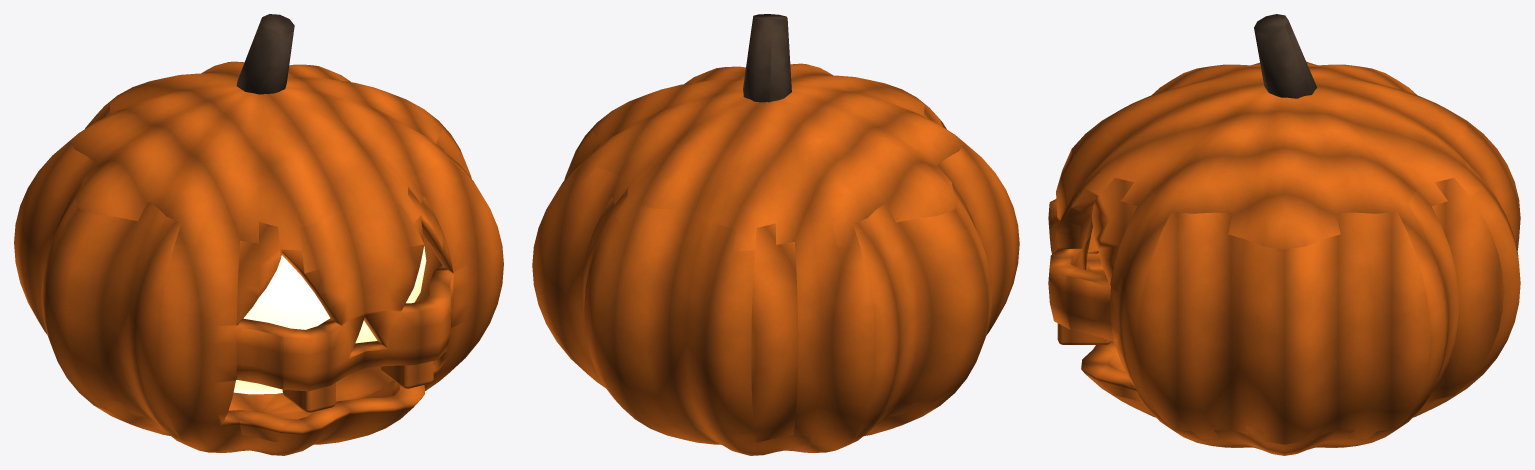
File: Pumpkin.glb
3 views of the same model, side by side, from view 1: azimuth 30°, elevation 25°; view 2: azimuth 150°, elevation 25°; view 3: azimuth 270°, elevation 25° (orthographic).
Visible parts, largest first — view 1: Pumpkin_Pumpkin, Pumpkin_PlasticWhite_glow.004, Pumpkin_Bark; view 2: Pumpkin_Pumpkin, Pumpkin_Bark; view 3: Pumpkin_Pumpkin, Pumpkin_Bark.
Boxes of the visible parts, <box> form: Pumpkin_Pumpkin: <box>14,61,503,455</box>; Pumpkin_PlasticWhite_glow.004: <box>233,246,426,394</box>; Pumpkin_Bark: <box>236,14,294,94</box>; Pumpkin_Pumpkin: <box>532,63,1019,455</box>; Pumpkin_Bark: <box>743,14,791,102</box>; Pumpkin_Pumpkin: <box>1048,61,1520,455</box>; Pumpkin_Bark: <box>1254,14,1316,98</box>.
Bounding box in the file's own units: 2.78 × 2.58 × 2.65.
Materials: 3 (3 with a texture image).
